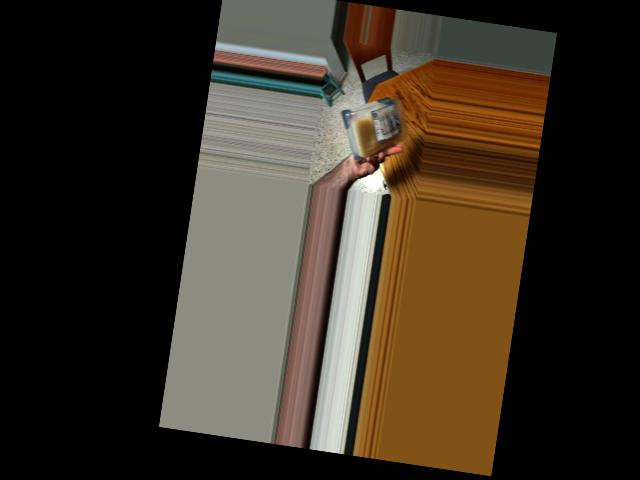cheese: (337, 91, 407, 151)
